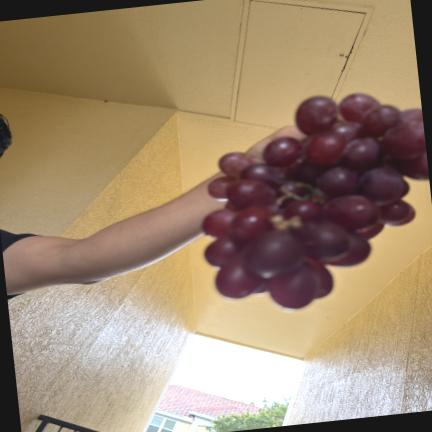grape_cluster: (203, 93, 429, 309)
